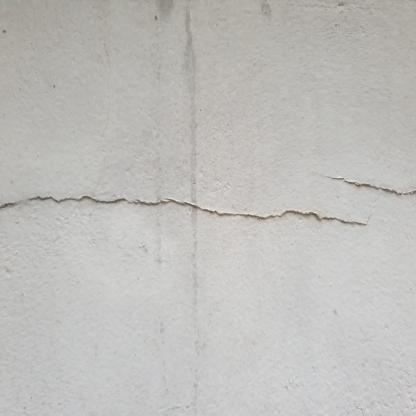crack: (0, 194, 368, 228), (330, 176, 416, 196)
